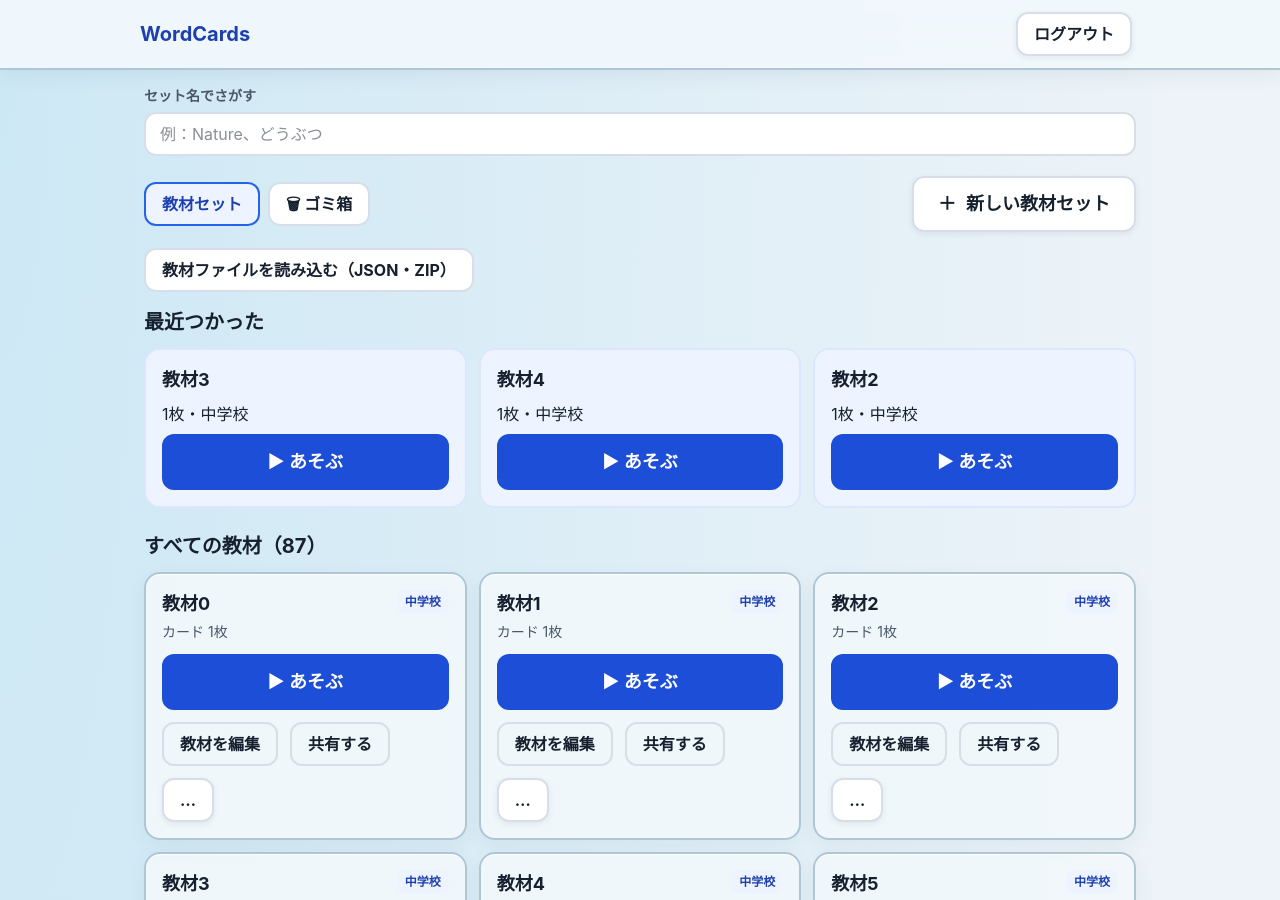
it: 最近つかったは有効な3件だけを使用順で表示し、検索0件から戻せる
Expected: the element "最近つかった" is shown, [144,308,1136,508]
Type "存在しない" into the search field. click: (640, 134)
box: [144,112,1136,156]
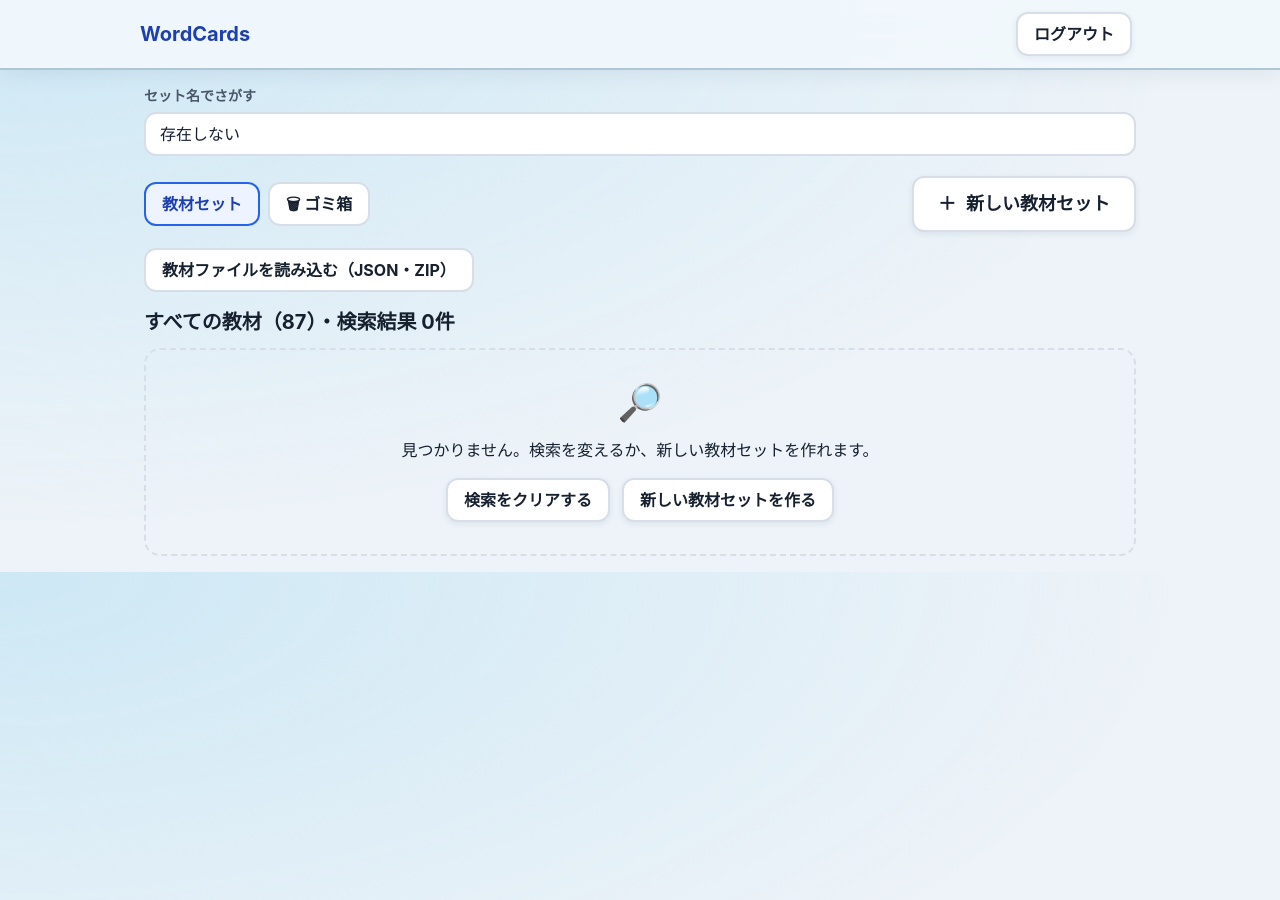
Expected: the text "見つかりません。検索を変えるか、新しい教材セットを作れます。" is shown, [401,440,878,460]
Click the button "検索をクリアする". click: (528, 500)
box: [446,478,610,522]
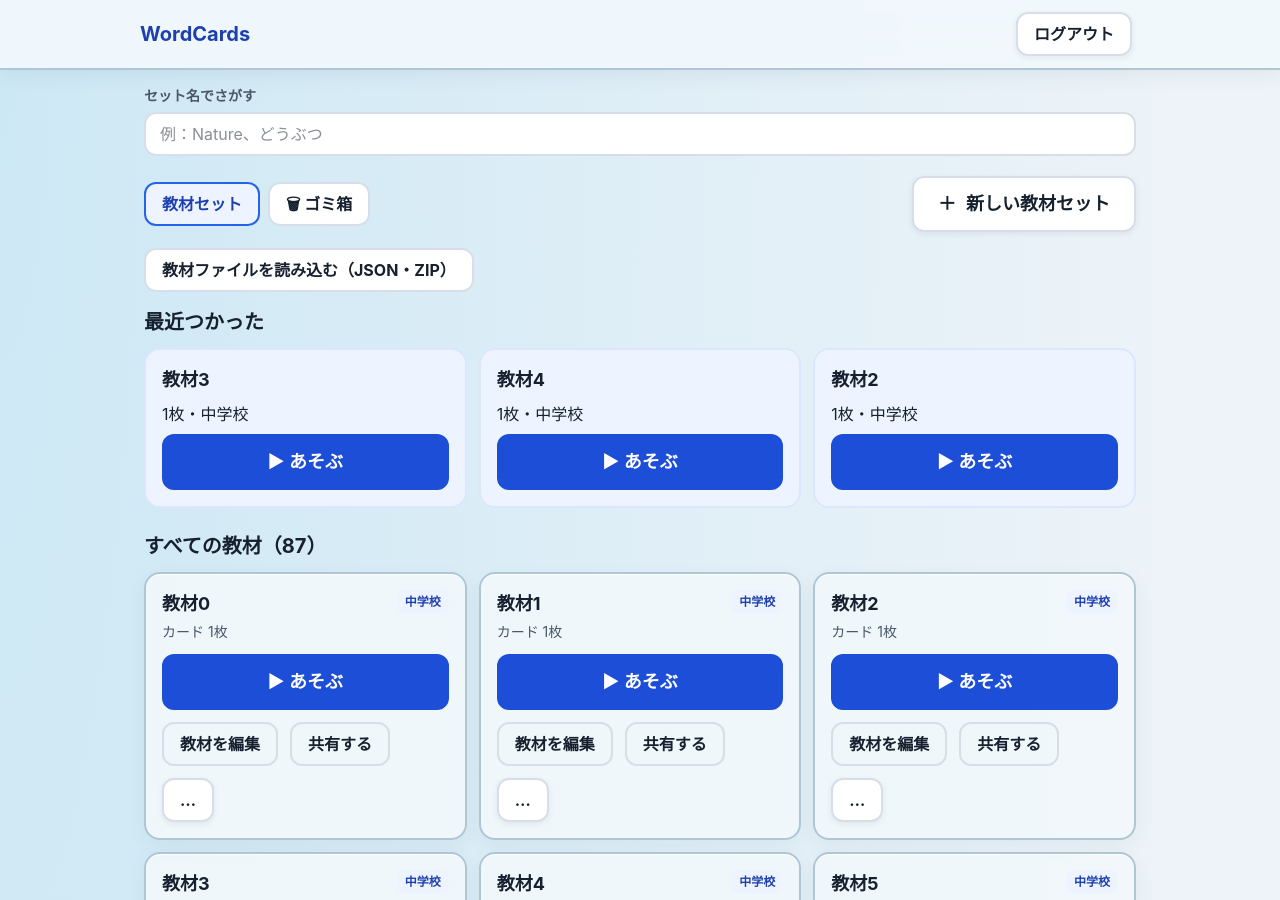
Expected: the element "最近つかった" is shown, [144,308,1136,508]
